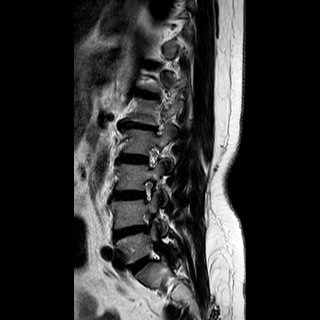LFS0: (138, 140, 163, 172), (138, 175, 161, 204)
LFS2: (133, 207, 158, 239)
